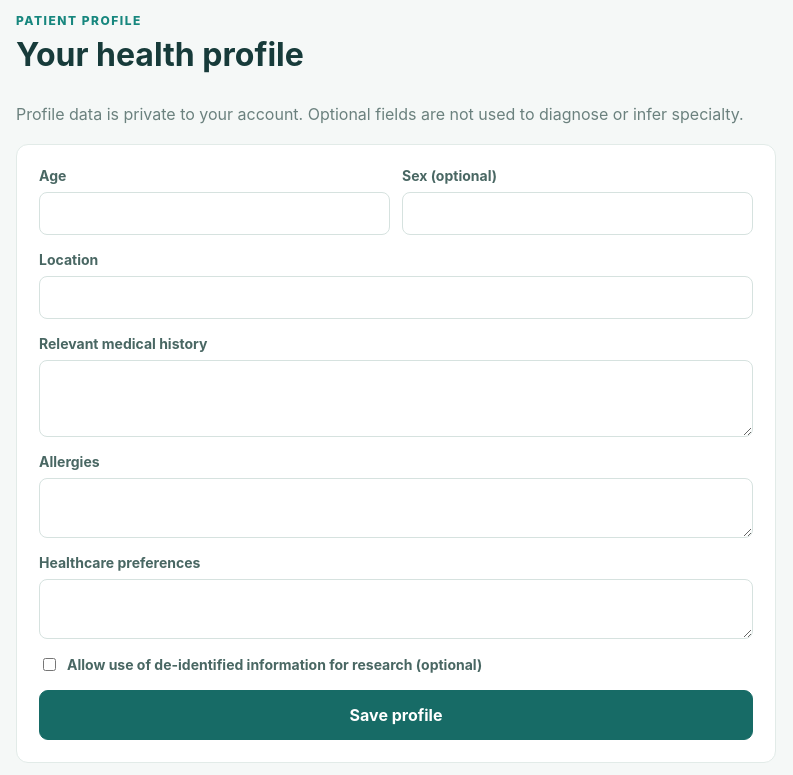
ProfilePage research consent › reflects opt-in and its recorded timestamp after saving
Click the checkbox labelled "Allow use of de-identified information for research": [50, 664] box [43,658,56,671]
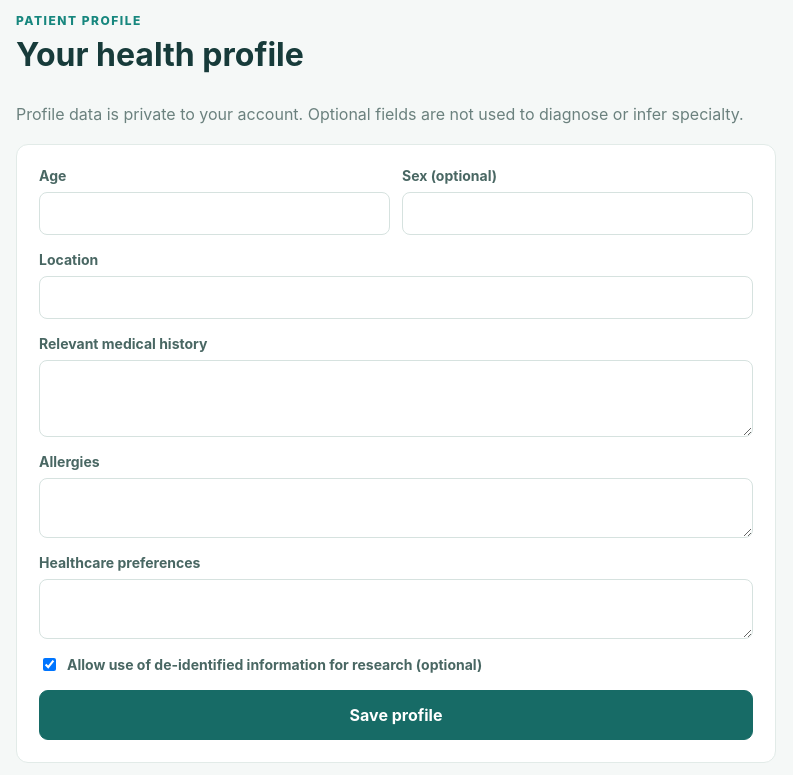
Click the button "Save profile": [396, 715] box [39,690,753,740]
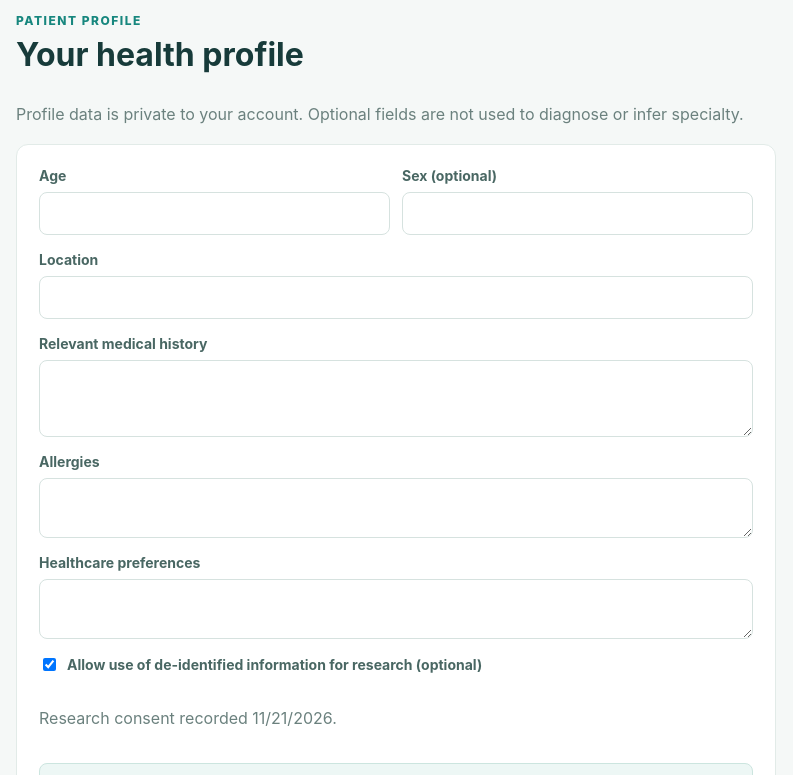
expect the checkbox labelled "Allow use of de-identified information for research" is checked: met, box [43,658,56,671]
expect the text "Research consent recorded 11/21/2026." is shown: met, box [39,708,337,728]
